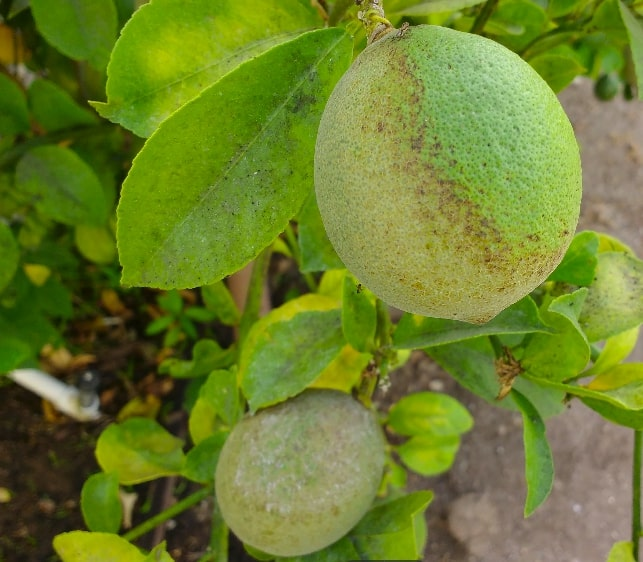damaged_lime: (326, 21, 568, 335), (210, 384, 397, 560)
